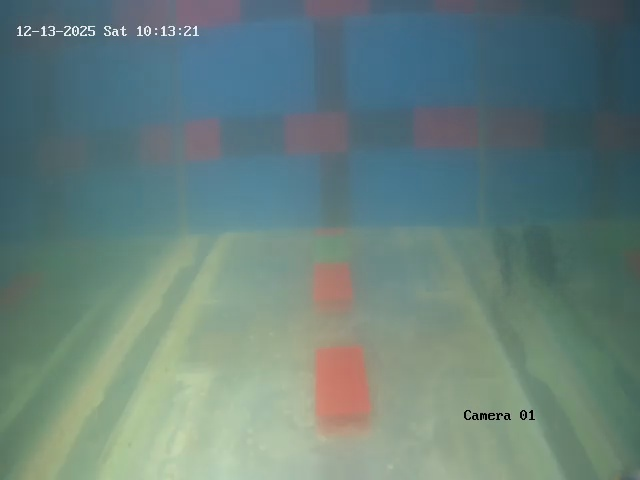fish: (485, 223, 519, 323)
